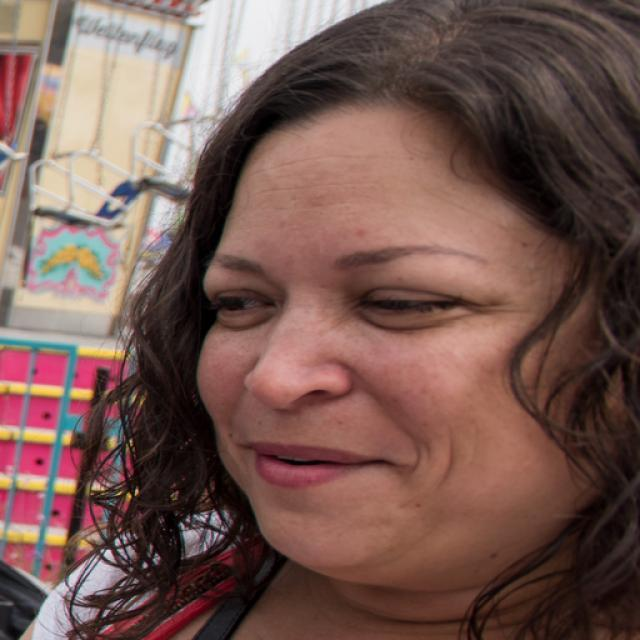happy: (191, 98, 580, 584)
